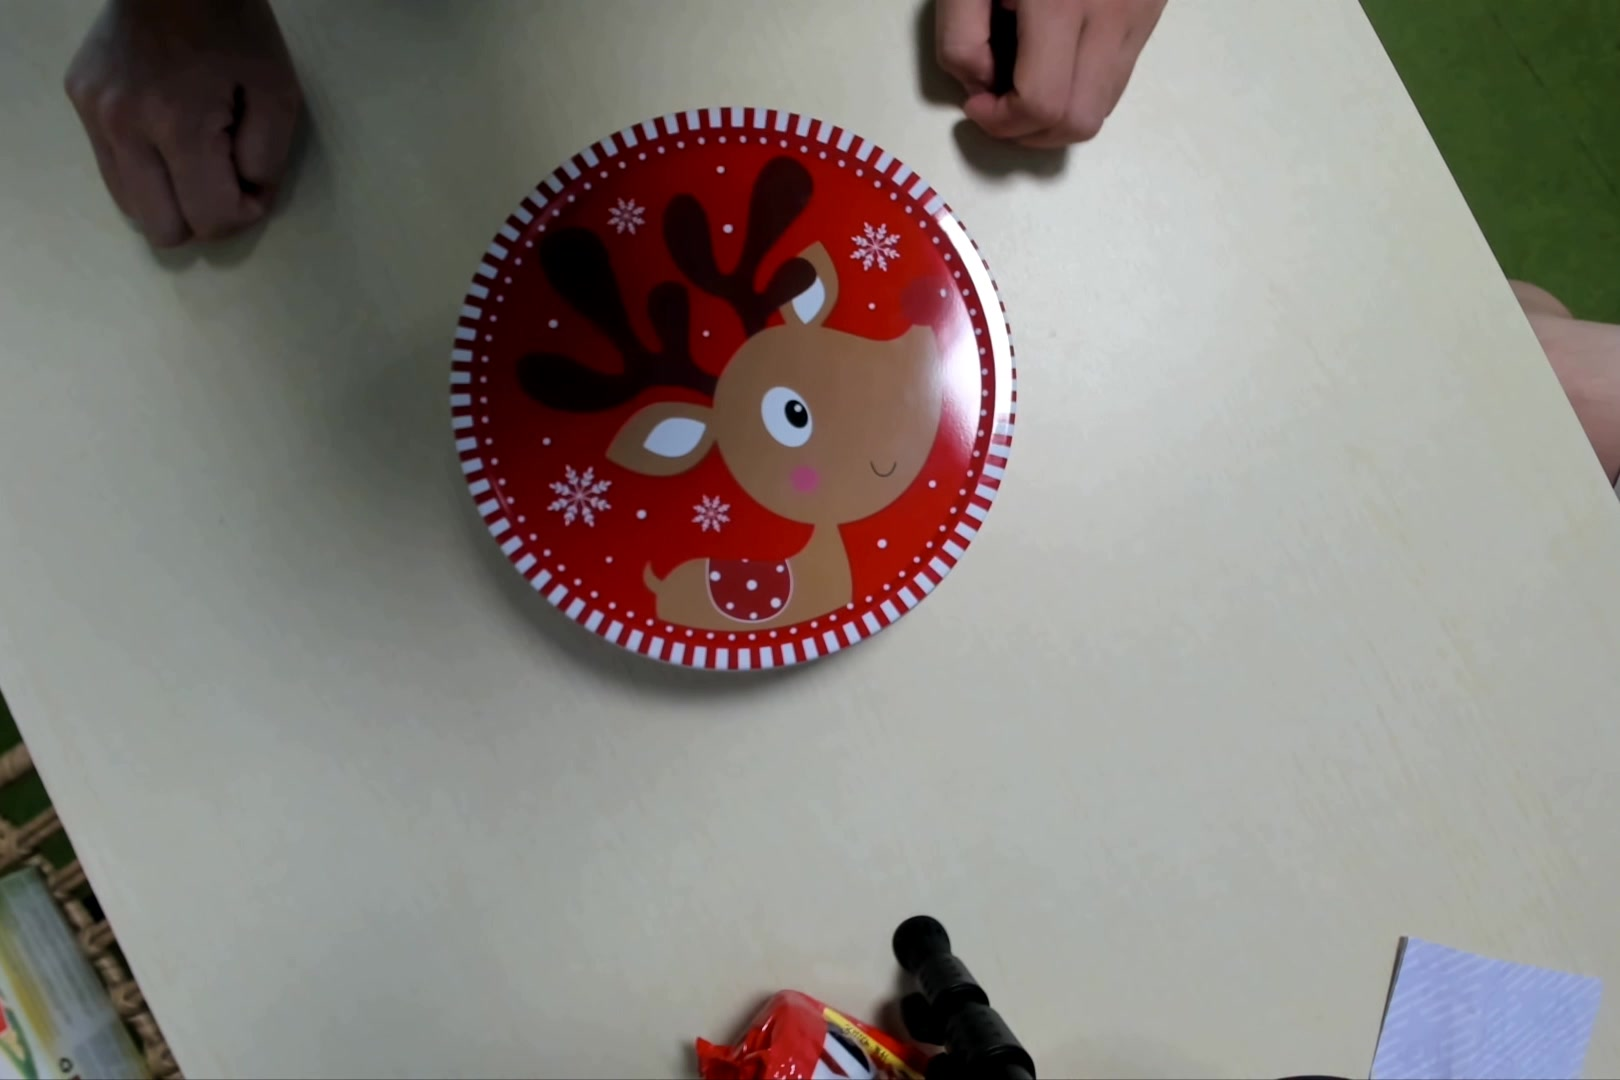BiscuitsCrackersCookies_400-499g_NonHalal_NonHealthy: (454, 106, 1021, 689)
